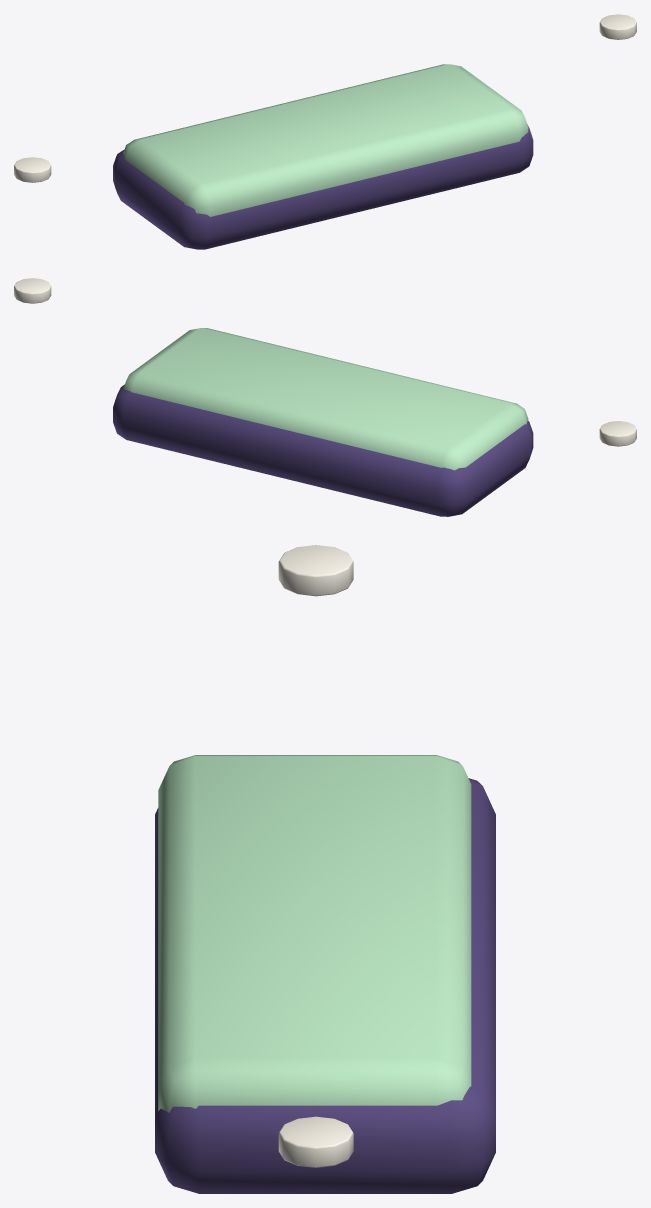
The model's file is music_bar_3.glb.
3 renders of one model, top to bottom at view 1: azimuth 30°, elevation 25°; view 2: azimuth 150°, elevation 25°; view 3: azimuth 270°, elevation 25°, orthographic. The views are drawn at different scales.
Parts seen in each view (by area): view 1: PaintedKey.003, InkKey.003, PearlPin_-1.003, PearlPin_1.003; view 2: PaintedKey.003, InkKey.003, PearlPin_1.003, PearlPin_-1.003; view 3: PaintedKey.003, InkKey.003, PearlPin_-1.003, PearlPin_1.003.
Part boxes in pixels (left/top/right/bottom): PaintedKey.003: left=123, top=64, right=528, bottom=216; InkKey.003: left=113, top=124, right=533, bottom=249; PearlPin_-1.003: left=14, top=157, right=51, bottom=182; PearlPin_1.003: left=599, top=14, right=636, bottom=39; PaintedKey.003: left=123, top=328, right=528, bottom=470; InkKey.003: left=113, top=384, right=533, bottom=516; PearlPin_1.003: left=14, top=278, right=51, bottom=303; PearlPin_-1.003: left=599, top=421, right=636, bottom=446; PaintedKey.003: left=158, top=755, right=471, bottom=1112; InkKey.003: left=155, top=778, right=495, bottom=1193; PearlPin_-1.003: left=278, top=545, right=353, bottom=596; PearlPin_1.003: left=278, top=1116, right=353, bottom=1167.
Size of the model in its own units: 6.11 by 0.9125 by 1.46.
